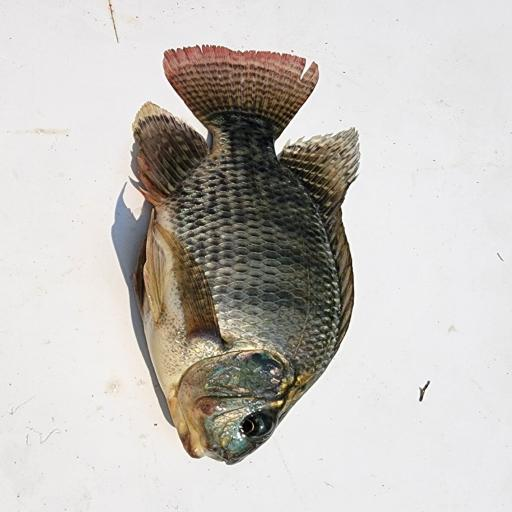Tilapia: (130, 45, 361, 466)
